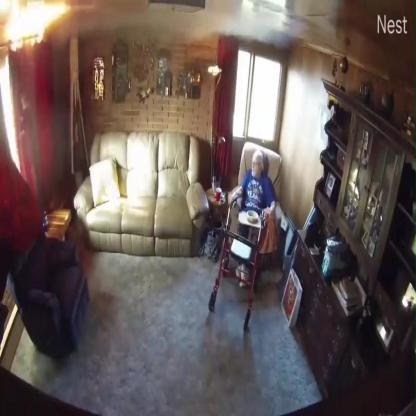fire: (5, 5, 72, 51)
